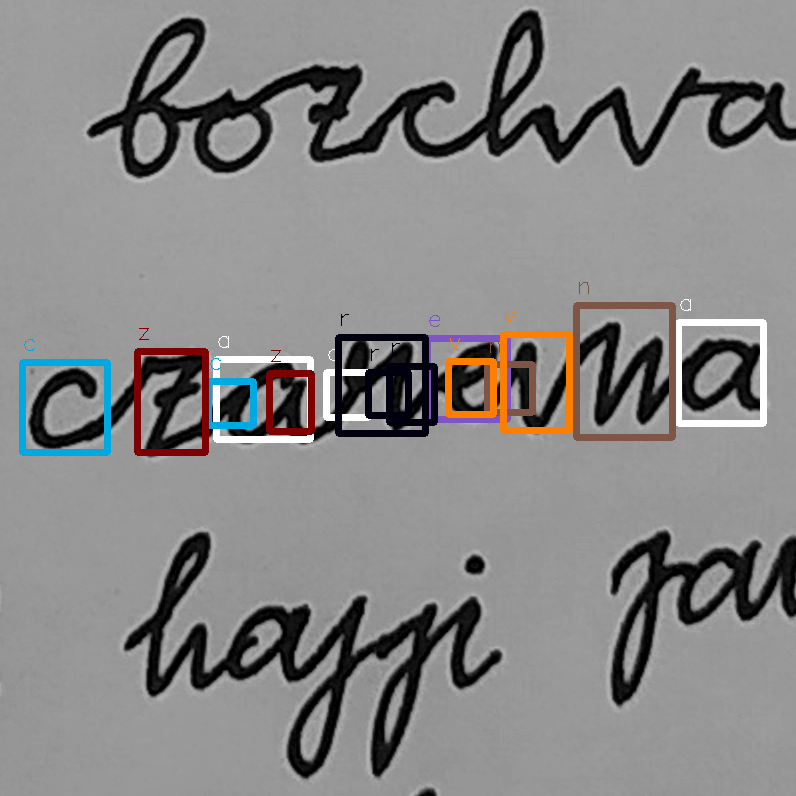a: (220, 355, 317, 452), (673, 330, 769, 414)
c: (23, 359, 105, 456)
e: (440, 335, 501, 428)
n: (589, 317, 668, 433)
r: (337, 334, 420, 439)
v: (506, 330, 586, 440)
z: (131, 347, 215, 459)
